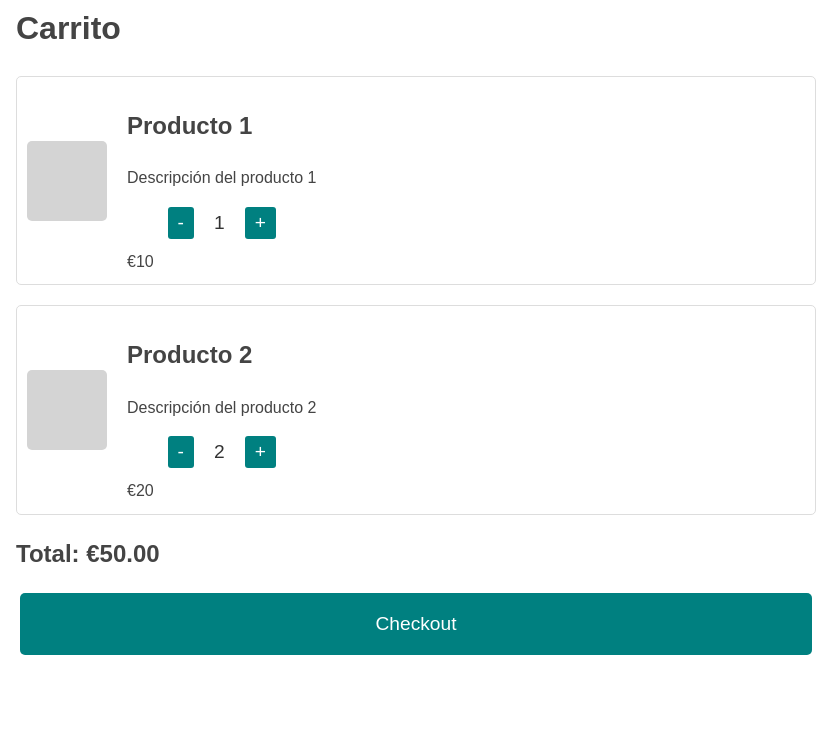
Test: CartPage › debería mostrar un mensaje y redirigir al login si el usuario no está autenticado
Step 1. Click the button "Checkout" → (416, 624), box [20,593,812,655]
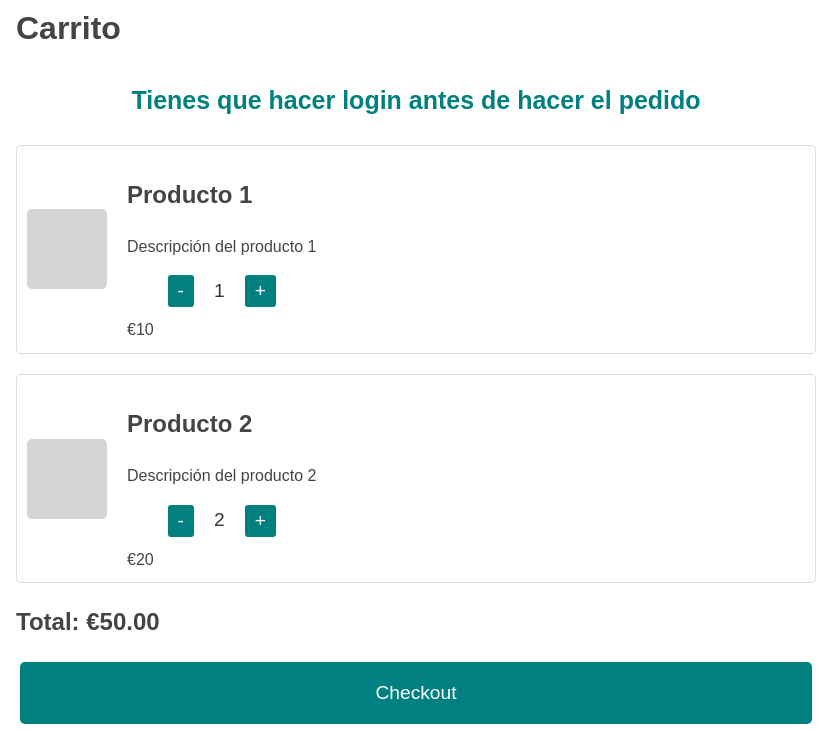
Check: the text "Tienes que hacer login antes de hacer el pedido" is shown, box [131,86,701,114]
